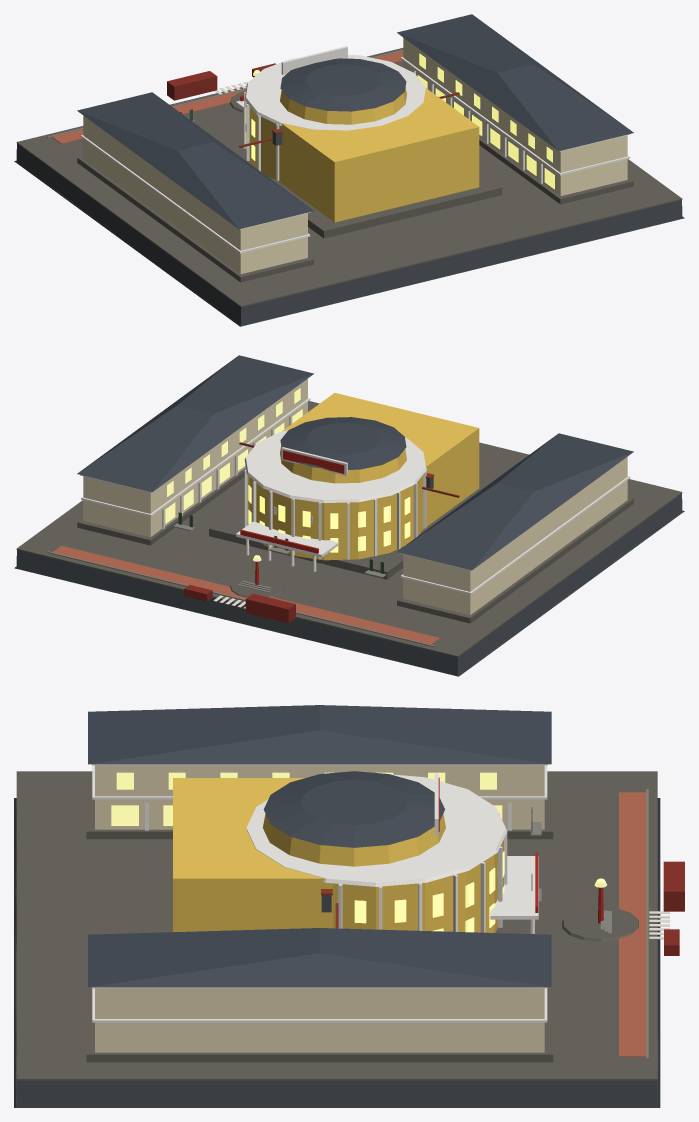
The model's file is lm_49_rap_hoa_binh_khu_hoa_binh.glb.
The picture shows the model from 3 angles, top to bottom: view 1: azimuth 30°, elevation 25°; view 2: azimuth 150°, elevation 25°; view 3: azimuth 270°, elevation 25°; orthographic projection. The views are drawn at different scales.
Parts seen in each view (by area): view 1: Foundation_Plinth_Trim, RapHoaBinh_Canary_Yellow_Rotunda, KhuHoaBinh_Heritage_Shophouses, Foundation_Skirt, KhuHoaBinh_Shophouse_Row_Roof_East_TruongCongDinh, KhuHoaBinh_Shophouse_Row_Roof_West_TangBatHo, RapHoaBinh_White_Louvers_And_Canopy, HoaBinh_Stone_Plinths_And_Island, KhuHoaBinh_Roofs, RapHoaBinh_Glowing_Windows_And_Neon, Phase2_Vintage_Vehicles_Train_SwanBoat, Phase2_Interlocking_Brick_Sidewalk; view 2: Foundation_Plinth_Trim, KhuHoaBinh_Heritage_Shophouses, RapHoaBinh_Canary_Yellow_Rotunda, Foundation_Skirt, KhuHoaBinh_Shophouse_Row_Roof_East_TruongCongDinh, KhuHoaBinh_Shophouse_Row_Roof_West_TangBatHo, RapHoaBinh_White_Louvers_And_Canopy, HoaBinh_Stone_Plinths_And_Island, KhuHoaBinh_Roofs, RapHoaBinh_Glowing_Windows_And_Neon, Phase2_Interlocking_Brick_Sidewalk, Phase2_Vintage_Vehicles_Train_SwanBoat (+2 smaller); view 3: Foundation_Plinth_Trim, KhuHoaBinh_Heritage_Shophouses, RapHoaBinh_Canary_Yellow_Rotunda, KhuHoaBinh_Shophouse_Row_Roof_East_TruongCongDinh, KhuHoaBinh_Shophouse_Row_Roof_West_TangBatHo, Foundation_Skirt, RapHoaBinh_White_Louvers_And_Canopy, HoaBinh_Stone_Plinths_And_Island, KhuHoaBinh_Roofs, Phase2_Interlocking_Brick_Sidewalk, RapHoaBinh_Glowing_Windows_And_Neon, Phase2_Vintage_Vehicles_Train_SwanBoat (+1 smaller).
Boxes of the visible parts, x1=… form: Foundation_Plinth_Trim: x1=16, y1=48, x2=682, y2=307; RapHoaBinh_Canary_Yellow_Rotunda: x1=247, y1=87, x2=479, y2=222; KhuHoaBinh_Heritage_Shophouses: x1=83, y1=38, x2=627, y2=273; Foundation_Skirt: x1=14, y1=144, x2=684, y2=326; KhuHoaBinh_Shophouse_Row_Roof_East_TruongCongDinh: x1=397, y1=14, x2=633, y2=151; KhuHoaBinh_Shophouse_Row_Roof_West_TangBatHo: x1=77, y1=92, x2=313, y2=229; RapHoaBinh_White_Louvers_And_Canopy: x1=81, y1=46, x2=630, y2=253; HoaBinh_Stone_Plinths_And_Island: x1=77, y1=91, x2=633, y2=282; KhuHoaBinh_Roofs: x1=280, y1=58, x2=406, y2=111; RapHoaBinh_Glowing_Windows_And_Neon: x1=245, y1=53, x2=554, y2=189; Phase2_Vintage_Vehicles_Train_SwanBoat: x1=167, y1=63, x2=275, y2=100; Phase2_Interlocking_Brick_Sidewalk: x1=52, y1=51, x2=403, y2=144; Foundation_Plinth_Trim: x1=16, y1=401, x2=682, y2=657; KhuHoaBinh_Heritage_Shophouses: x1=83, y1=378, x2=627, y2=615; RapHoaBinh_Canary_Yellow_Rotunda: x1=247, y1=393, x2=479, y2=560; Foundation_Skirt: x1=14, y1=493, x2=684, y2=676; KhuHoaBinh_Shophouse_Row_Roof_East_TruongCongDinh: x1=77, y1=355, x2=313, y2=492; KhuHoaBinh_Shophouse_Row_Roof_West_TangBatHo: x1=397, y1=433, x2=633, y2=570; RapHoaBinh_White_Louvers_And_Canopy: x1=80, y1=398, x2=630, y2=594; HoaBinh_Stone_Plinths_And_Island: x1=77, y1=468, x2=633, y2=623; KhuHoaBinh_Roofs: x1=280, y1=417, x2=406, y2=469; RapHoaBinh_Glowing_Windows_And_Neon: x1=165, y1=388, x2=410, y2=561; Phase2_Interlocking_Brick_Sidewalk: x1=53, y1=545, x2=439, y2=644; Phase2_Vintage_Vehicles_Train_SwanBoat: x1=184, y1=584, x2=295, y2=623; Foundation_Plinth_Trim: x1=16, y1=771, x2=657, y2=1080; KhuHoaBinh_Heritage_Shophouses: x1=95, y1=765, x2=544, y2=1052; RapHoaBinh_Canary_Yellow_Rotunda: x1=173, y1=778, x2=503, y2=932; KhuHoaBinh_Shophouse_Row_Roof_East_TruongCongDinh: x1=88, y1=928, x2=551, y2=987; KhuHoaBinh_Shophouse_Row_Roof_West_TangBatHo: x1=88, y1=705, x2=551, y2=764; Foundation_Skirt: x1=14, y1=798, x2=660, y2=1107; RapHoaBinh_White_Louvers_And_Canopy: x1=91, y1=764, x2=547, y2=1022; HoaBinh_Stone_Plinths_And_Island: x1=86, y1=780, x2=638, y2=1062; KhuHoaBinh_Roofs: x1=263, y1=771, x2=444, y2=847; Phase2_Interlocking_Brick_Sidewalk: x1=619, y1=792, x2=646, y2=1056; RapHoaBinh_Glowing_Windows_And_Neon: x1=111, y1=772, x2=606, y2=932; Phase2_Vintage_Vehicles_Train_SwanBoat: x1=663, y1=861, x2=684, y2=955.
Size of the model in its own units: 84.84 by 20 by 77.6.
